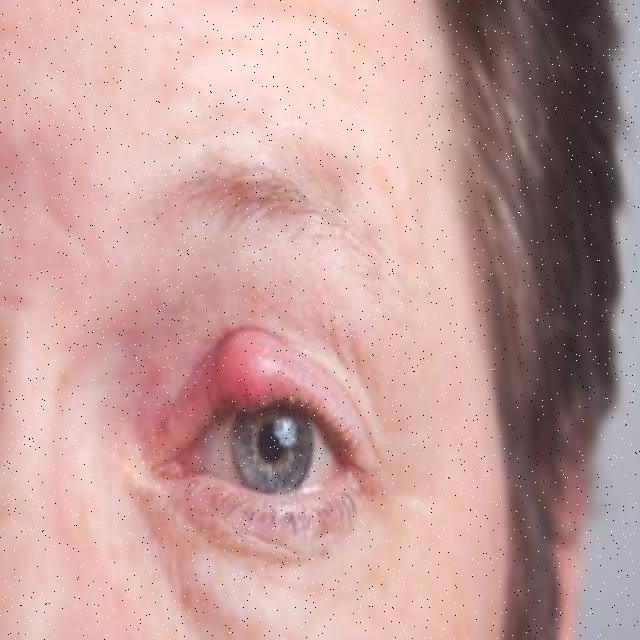Stye: (195, 315, 318, 447)
